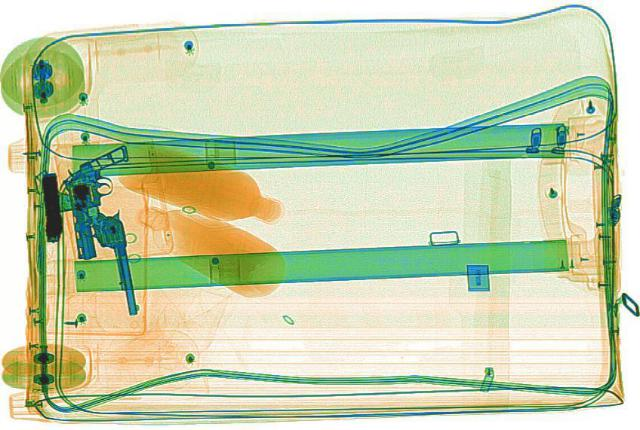Gun: (40, 136, 136, 262), (77, 203, 165, 326), (32, 174, 70, 244)
